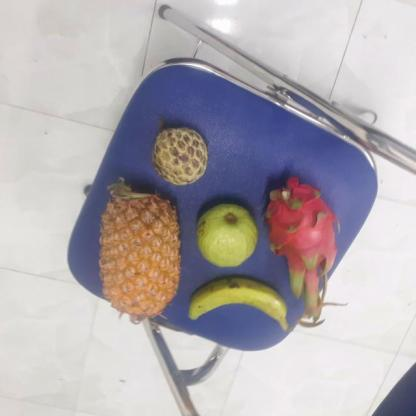annona: (148, 126, 207, 184)
guava: (192, 201, 258, 268)
pineapple: (93, 187, 182, 320)
pitaya: (260, 185, 340, 296)
